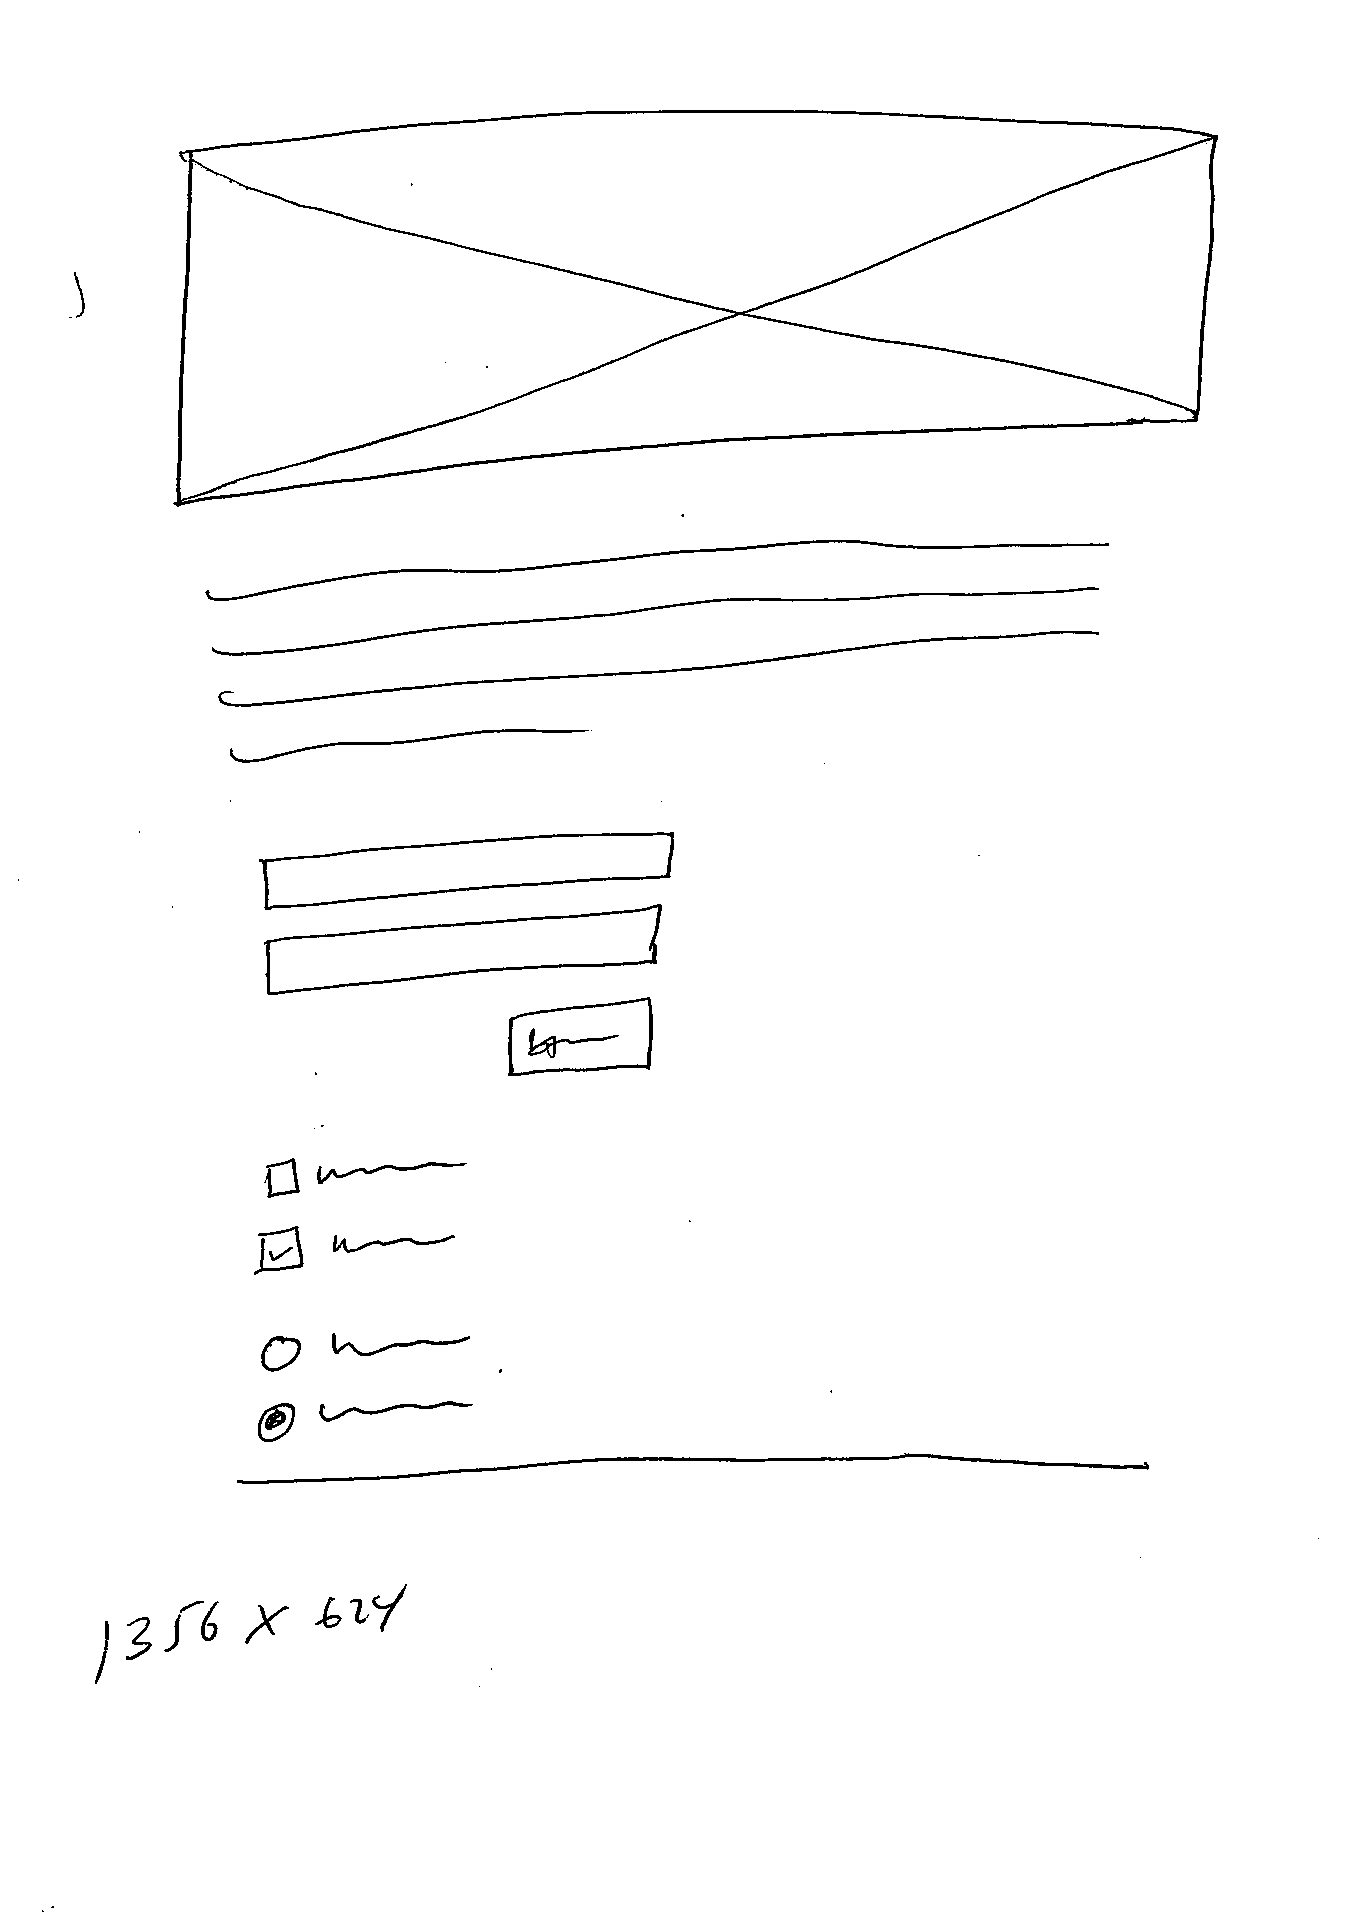Button: (506, 994, 656, 1079)
Image: (174, 115, 1224, 512)
Paragraph: (201, 532, 1109, 773)
Textbox: (262, 911, 662, 992), (256, 829, 671, 906)
